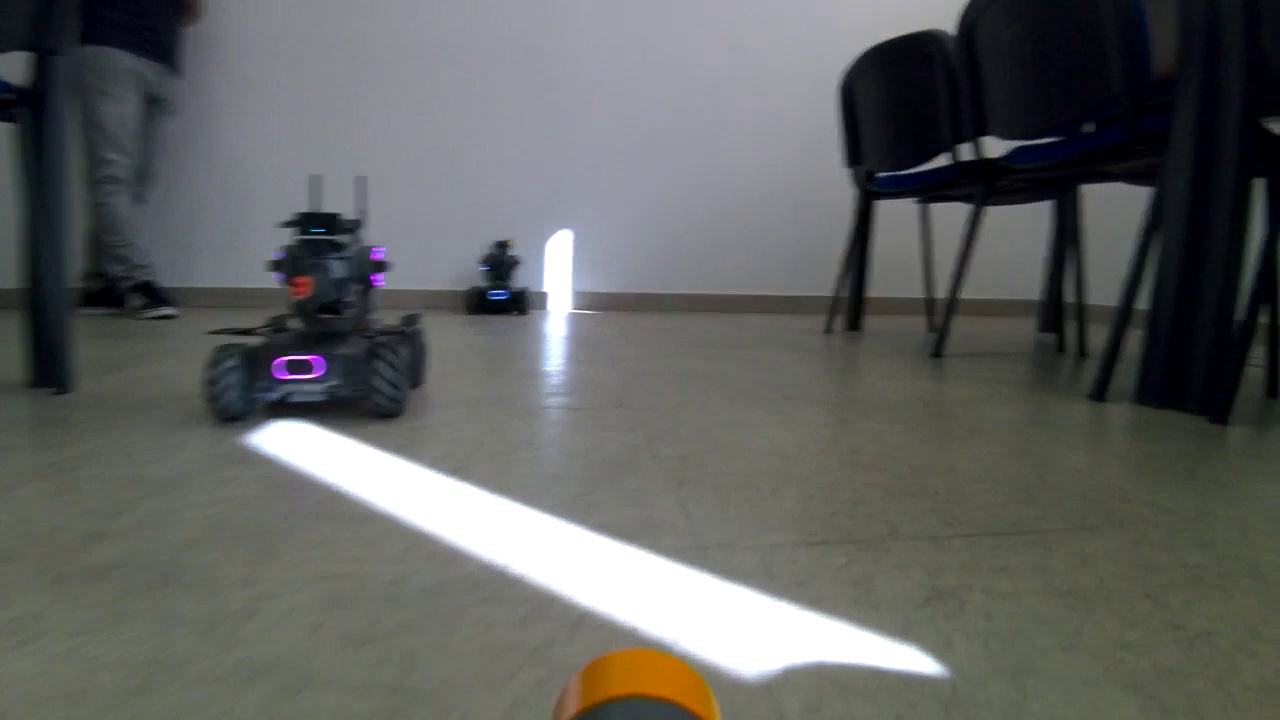robot: (198, 208, 436, 422), (458, 237, 542, 310)
